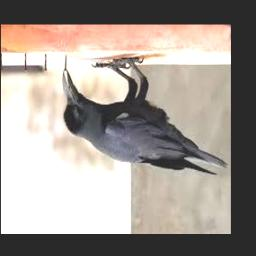Crow: (63, 56, 229, 177)
